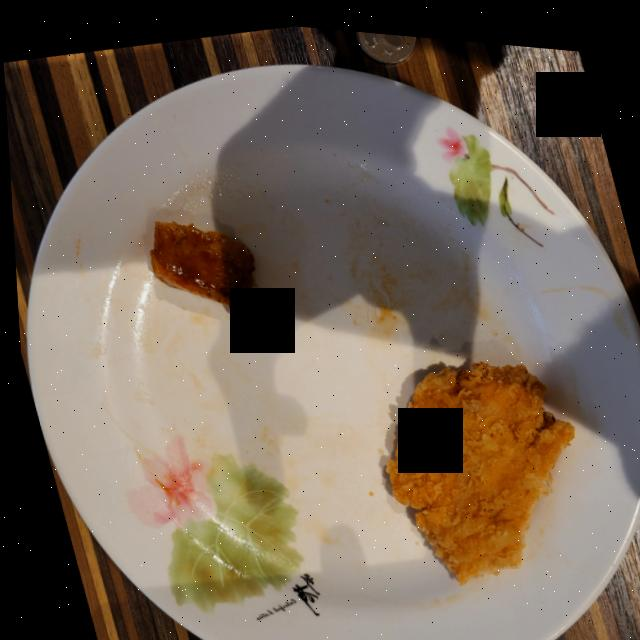coin: (356, 25, 416, 56)
creamy tofu: (147, 217, 251, 310)
fried chicken cutlet: (380, 352, 569, 574)
